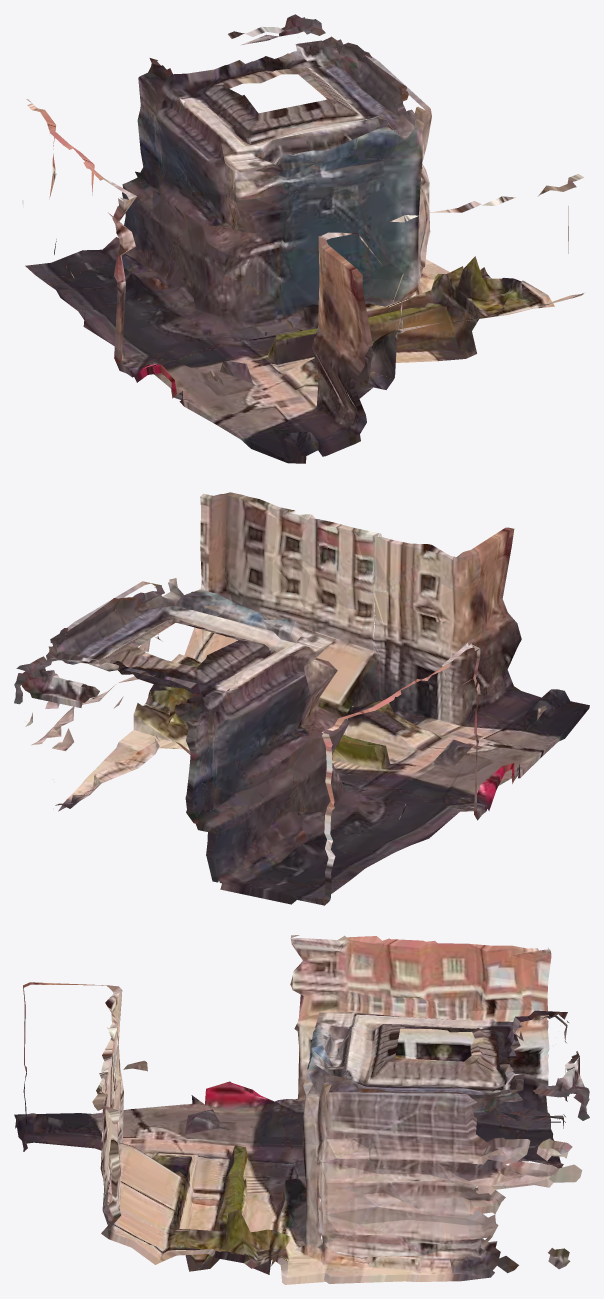
The picture shows the model from 3 angles, top to bottom: view 1: azimuth 30°, elevation 25°; view 2: azimuth 150°, elevation 25°; view 3: azimuth 270°, elevation 25°; orthographic projection.
Parts seen in each view (by area): view 1: Mesh_0; view 2: Mesh_0; view 3: Mesh_0.
Boxes of the visible parts, bbox=[...] form: Mesh_0: bbox=[22, 14, 583, 463]; Mesh_0: bbox=[14, 492, 589, 905]; Mesh_0: bbox=[14, 935, 589, 1284].
Bounding box in the file's own units: 31.06 × 15.6 × 41.46.
Materials: 2 (2 with a texture image).
